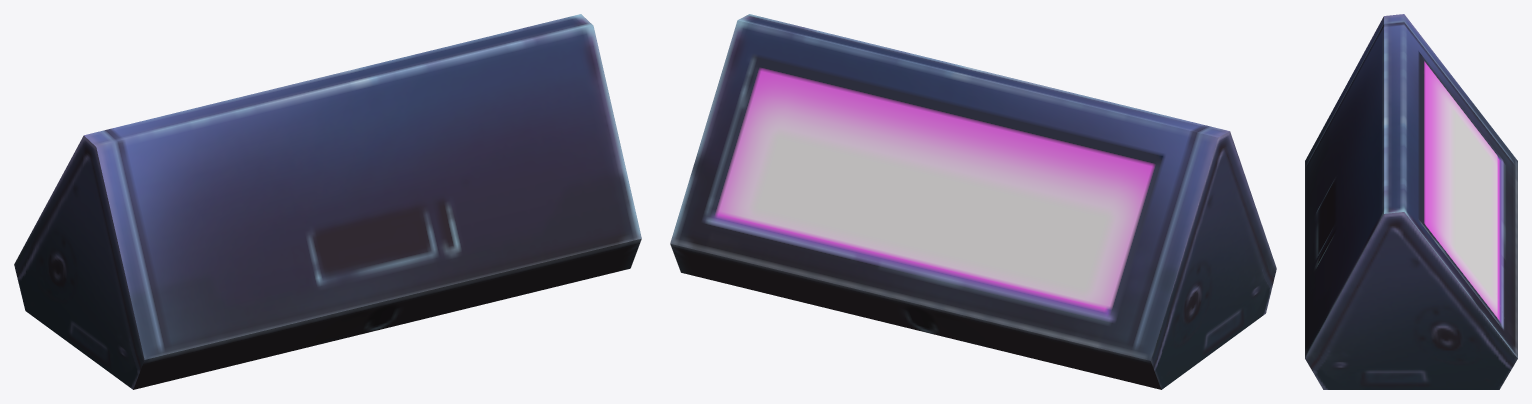
File: Julebu_Deng2_fbx.FBX
3 views of the same model, side by side, from view 1: azimuth 30°, elevation 25°; view 2: azimuth 150°, elevation 25°; view 3: azimuth 270°, elevation 25° (orthographic). The views are drawn at different scales.
Parts seen in each view (by area): view 1: Object008; view 2: Object008; view 3: Object008.
Boxes of the visible parts, <box> form: Object008: <box>14,14,641,389</box>; Object008: <box>670,14,1276,389</box>; Object008: <box>1305,14,1517,389</box>.
Bounding box in the file's own units: 0.6149 × 0.258 × 0.2794.
